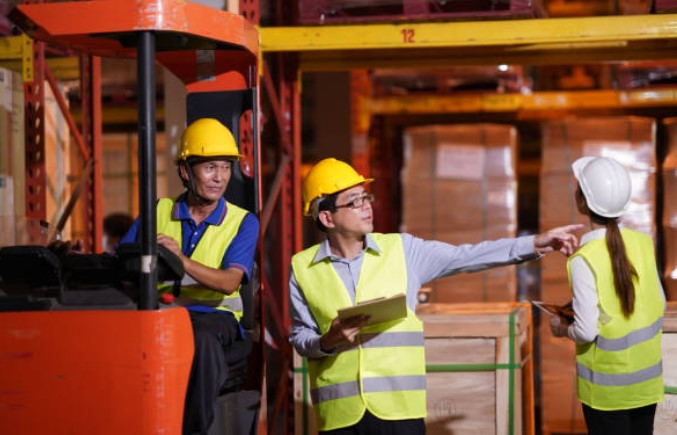worker: (292, 158, 427, 430), (568, 156, 663, 409), (156, 118, 248, 320)
